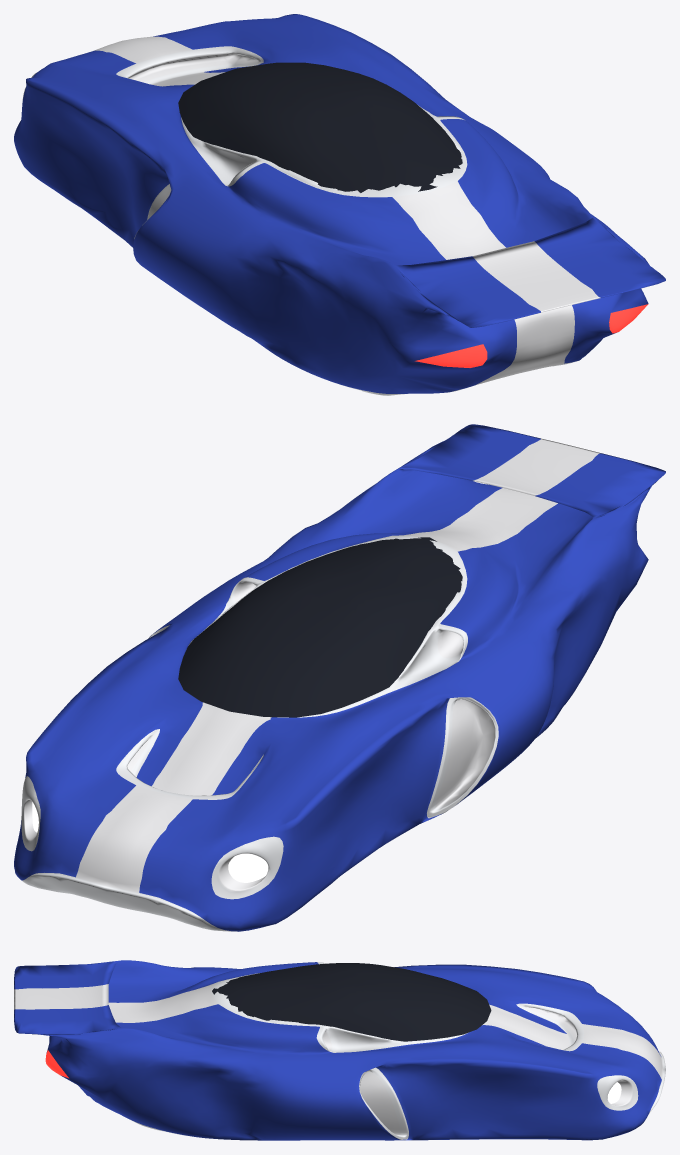
File: v3-speedster.glb
The picture shows the model from 3 angles, top to bottom: view 1: azimuth 30°, elevation 25°; view 2: azimuth 150°, elevation 25°; view 3: azimuth 270°, elevation 25°; orthographic projection. The views are drawn at different scales.
Visible parts, largest first — view 1: Body.001, Canopy; view 2: Body.001, Canopy; view 3: Body.001, Canopy.
Part boxes in pixels (x1,y1,x2,y2): Body.001: [14, 14, 665, 395]; Canopy: [178, 62, 462, 192]; Body.001: [14, 424, 665, 931]; Canopy: [178, 537, 462, 717]; Body.001: [14, 960, 665, 1140]; Canopy: [212, 963, 491, 1041].
Bounding box in the file's own units: 1.98 × 0.9159 × 4.44.
